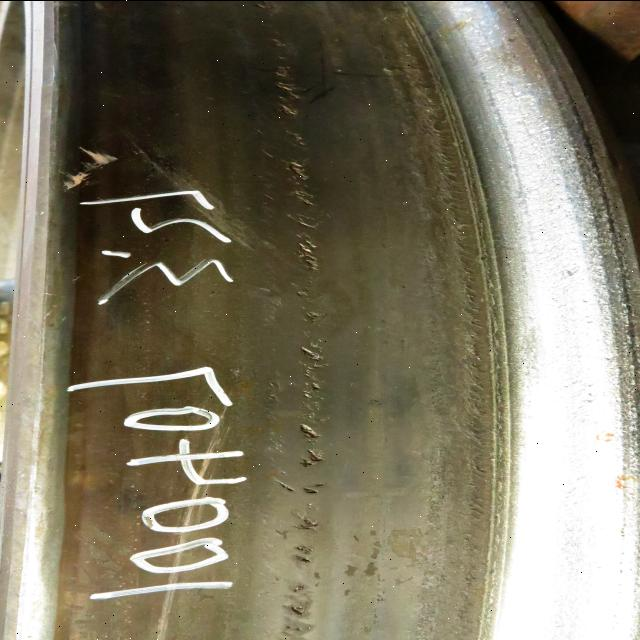boli: (280, 302, 336, 502), (278, 150, 330, 274)
